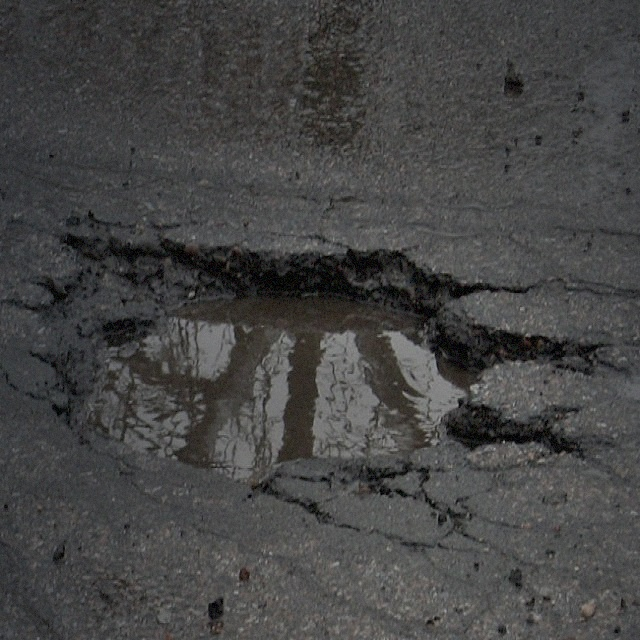pothole: (42, 205, 571, 515)
